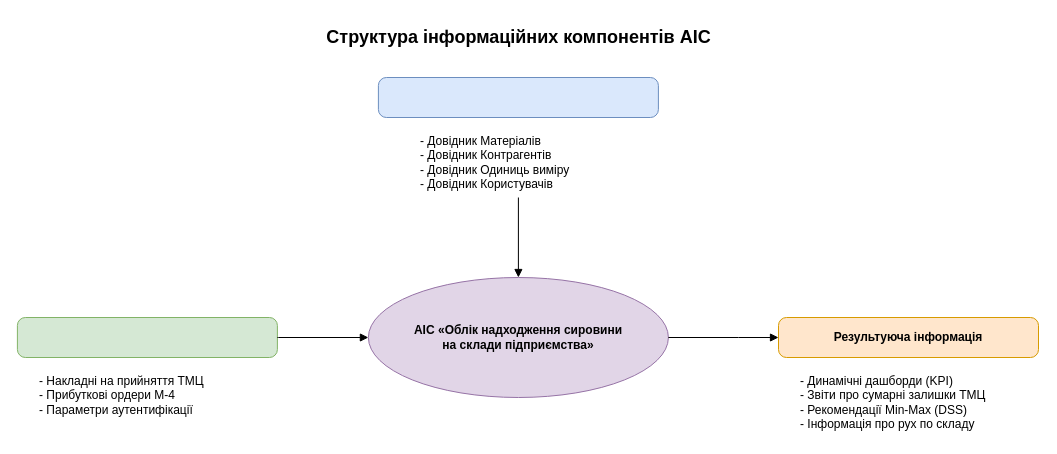
This 1057x454 diagram has some shape labels left out. The centre of each missing label's shape, as x and y in pixels:
Вхідна інформація (Документи): the point at 146,337
Нормативно-довідкова інформація: the point at 517,97
